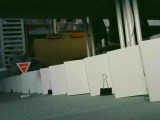stop: (15, 62, 31, 75)
